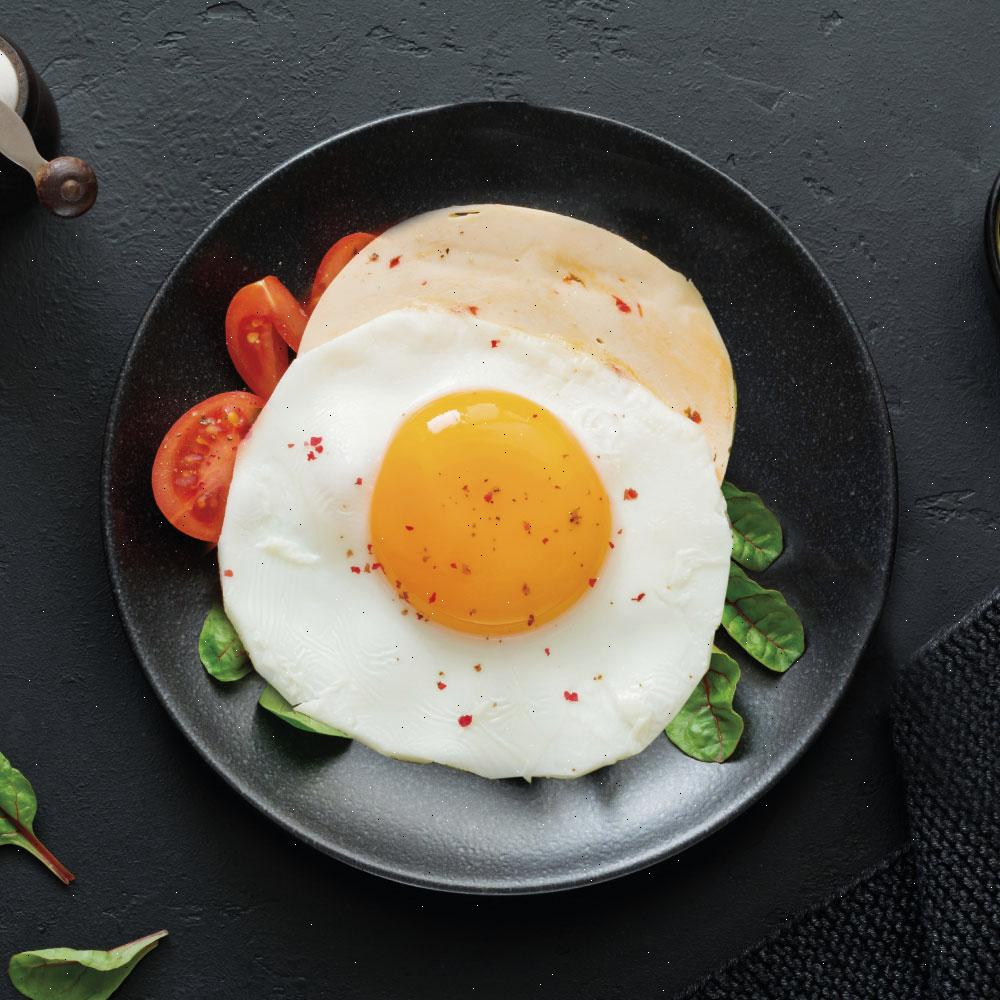eggs: (271, 201, 779, 765)
